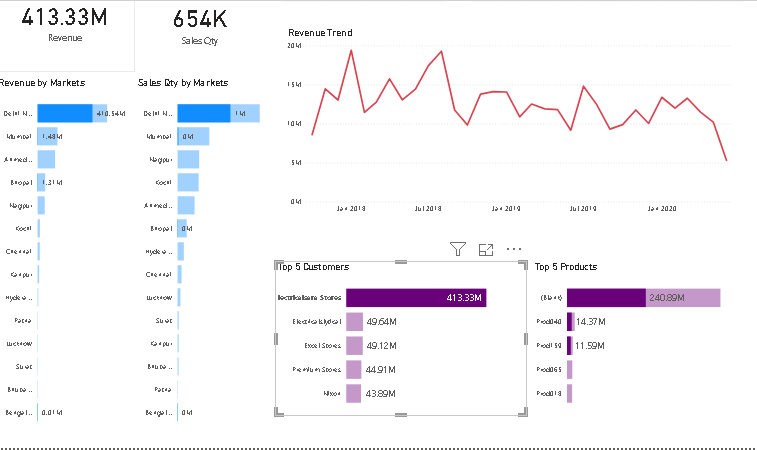

The dashboard page shown, as its layout file describes it:
{"tool":"powerbi","page":{"name":"Key Insights","canvas":[1350,850],"ordinal":0},"visuals":[{"type":"card","fields":{"Values":["BaseMeasures (2).Revenue"]},"box":[0,0,247.9,184.6],"z":0},{"type":"card","fields":{"Values":["BaseMeasures (2).Sales Qty"]},"box":[247.9,0,227.9,193.1],"z":1000},{"type":"barChart","title":"Revenue by Markets","fields":{"Y":["BaseMeasures (2).Revenue"],"Category":["sales markets.markets_name"]},"box":[0,193.1,247.9,631.9],"z":2000},{"type":"barChart","title":"Sales Qty by Markets","fields":{"Y":["BaseMeasures (2).Sales Qty"],"Category":["sales markets.markets_name"]},"box":[247.9,193.1,247.9,631.9],"z":3000},{"type":"slicer","fields":{"Values":["sales date.year"]},"box":[483.2,0,335.5,66.5],"z":4000},{"type":"slicer","fields":{"Values":["sales date.cy_date"]},"box":[818.6,0,531.7,66.5],"z":5000},{"type":"barChart","title":"Top 5 Customers","fields":{"Y":["BaseMeasures (2).Revenue"],"Category":["sales customers.custmer_name"]},"box":[495.8,519,446.2,274.3],"z":6000},{"type":"barChart","title":"Top 5 Products","fields":{"Y":["BaseMeasures (2).Revenue"],"Category":["sales products.product_code"]},"box":[950.7,519.2,399.5,282.8],"z":7000},{"type":"lineChart","title":"Revenue Trend","fields":{"Y":["BaseMeasures (2).Revenue"],"Category":["sales date.cy_date"]},"box":[513.8,104.4,809.1,338.6],"z":8000}]}

Visuals, with their boxes on the page's 1350x850 design canvas (x1, y1, x2, y2). These are canvas units, not pixel positions in the 757x450 screenshot, which may show the page scaled, cropped or inside an application window:
card - BaseMeasures (2).Revenue: [x1=0, y1=0, x2=248, y2=185]
card - BaseMeasures (2).Sales Qty: [x1=248, y1=0, x2=476, y2=193]
"Revenue by Markets" barChart: [x1=0, y1=193, x2=248, y2=825]
"Sales Qty by Markets" barChart: [x1=248, y1=193, x2=496, y2=825]
slicer - sales date.year: [x1=483, y1=0, x2=819, y2=66]
slicer - sales date.cy_date: [x1=819, y1=0, x2=1350, y2=66]
"Top 5 Customers" barChart: [x1=496, y1=519, x2=942, y2=793]
"Top 5 Products" barChart: [x1=951, y1=519, x2=1350, y2=802]
"Revenue Trend" lineChart: [x1=514, y1=104, x2=1323, y2=443]
